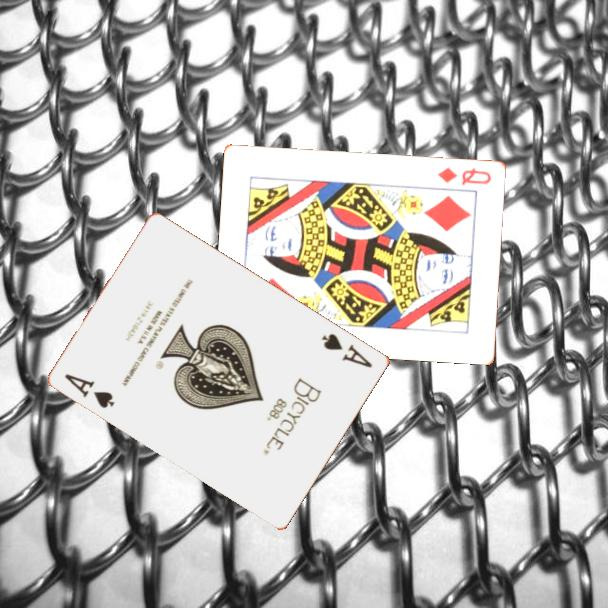d12: (435, 164, 494, 188)
s01: (318, 329, 376, 371), (61, 370, 118, 411)
